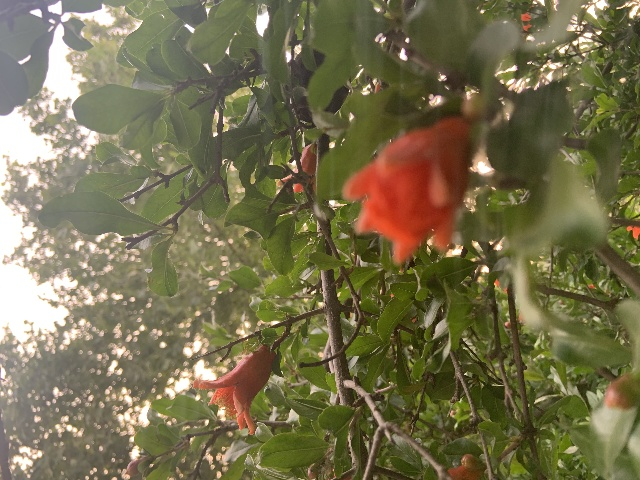flower: (343, 116, 473, 267), (192, 345, 276, 434), (276, 143, 316, 192)
